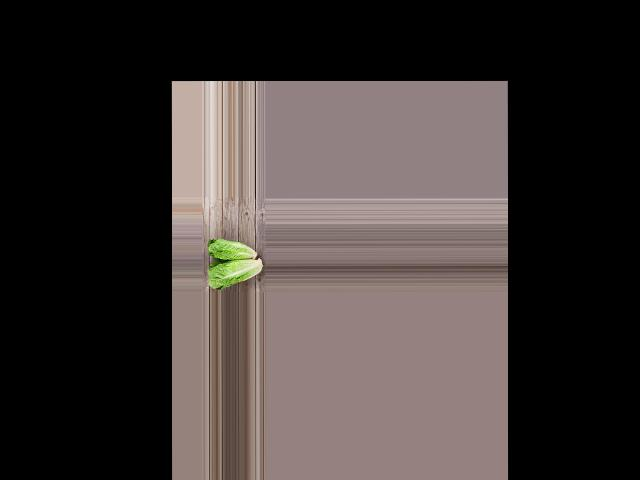lettuce: (205, 258, 265, 290)
